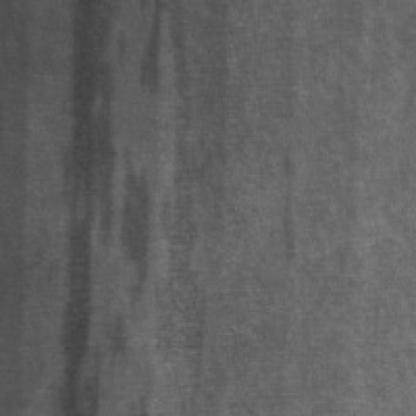inclusion: (56, 0, 149, 410), (272, 144, 304, 268)
